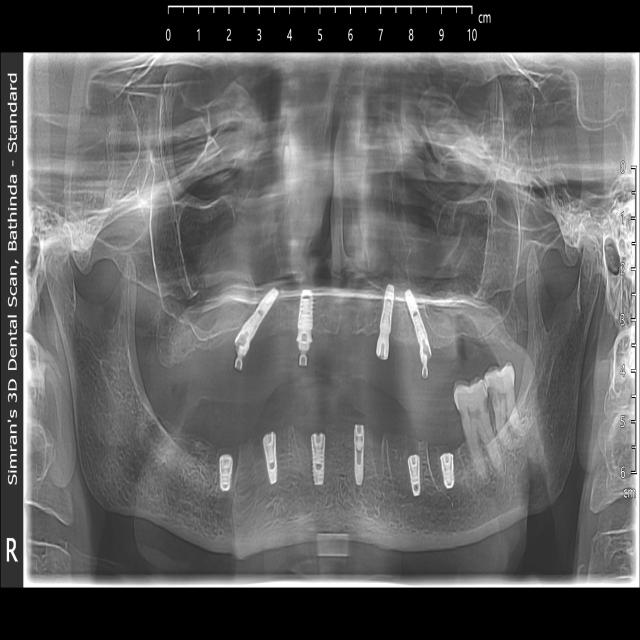Caries: (485, 365, 514, 423)
Implant: (234, 284, 279, 372), (404, 292, 432, 376), (376, 285, 395, 362), (297, 289, 313, 368), (262, 433, 277, 485), (354, 425, 365, 486), (313, 434, 325, 484), (408, 456, 422, 496), (220, 454, 233, 491), (441, 455, 454, 489)
Missing teeth: (172, 320, 231, 381), (177, 429, 217, 479), (368, 428, 401, 483), (280, 418, 310, 476), (431, 324, 478, 361), (316, 322, 372, 348), (328, 420, 350, 483), (234, 429, 259, 481), (265, 320, 294, 353), (421, 439, 437, 485), (394, 328, 419, 354)
